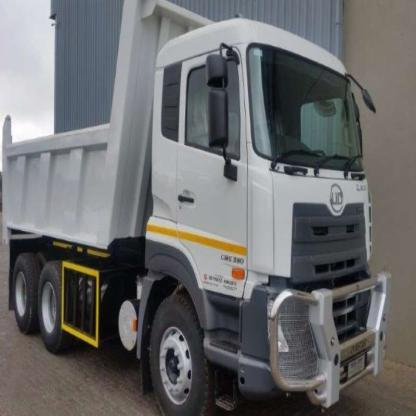dump_truck: (2, 6, 392, 413)
